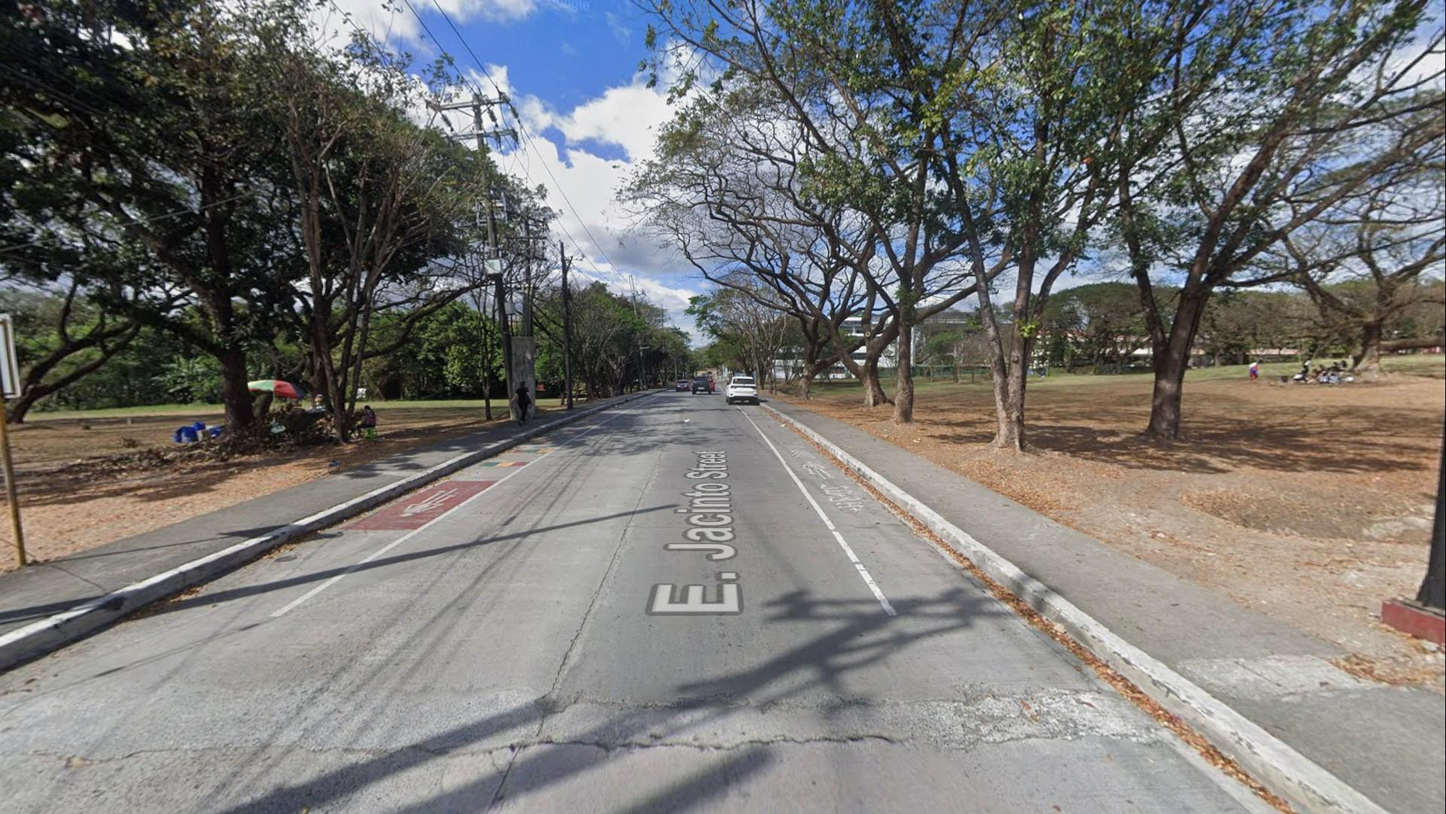pedestrian: (507, 380, 533, 427), (355, 404, 377, 441), (1248, 355, 1260, 384), (1301, 354, 1313, 380), (1310, 360, 1324, 380), (1339, 359, 1349, 377), (1328, 360, 1338, 378)
